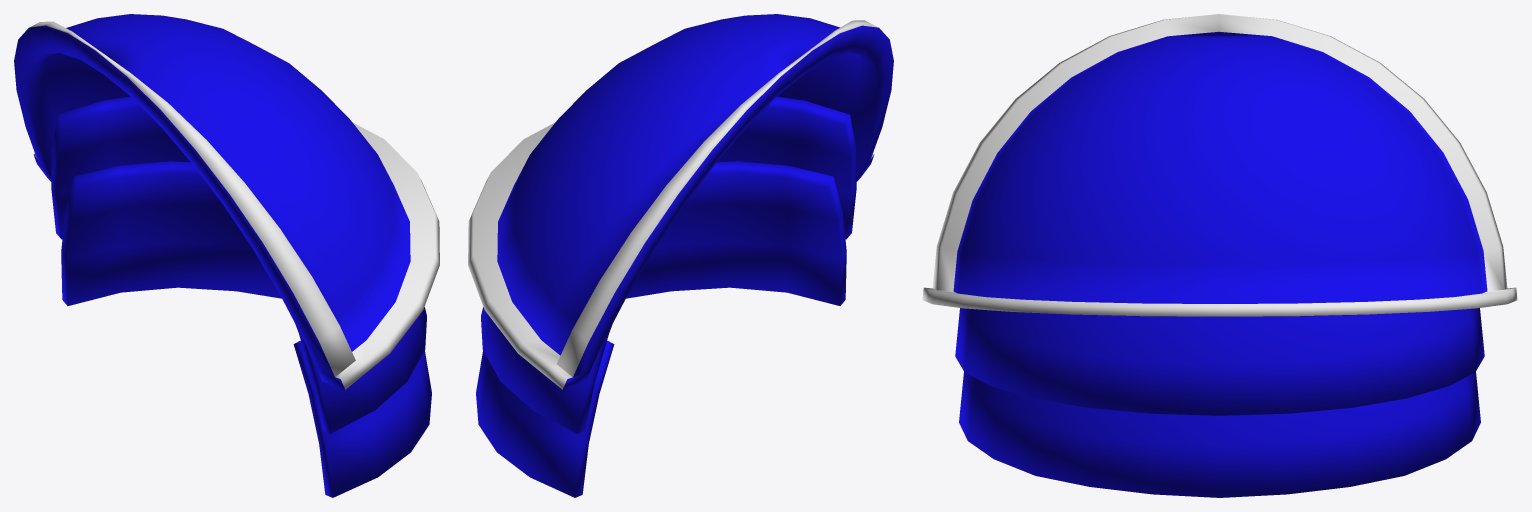
File: hombrera.fbx
3 renders of one model, left to right at view 1: azimuth 30°, elevation 25°; view 2: azimuth 150°, elevation 25°; view 3: azimuth 270°, elevation 25°, orthographic. The views are drawn at different scales.
Visible parts, largest first — view 1: Sphere, Sphere.002, Sphere.001; view 2: Sphere, Sphere.002, Sphere.001; view 3: Sphere, Sphere.001, Sphere.002.
Boxes of the visible parts, bbox=[...] form: Sphere: bbox=[14, 14, 439, 389]; Sphere.002: bbox=[61, 161, 431, 497]; Sphere.001: bbox=[51, 96, 426, 433]; Sphere: bbox=[468, 14, 893, 389]; Sphere.002: bbox=[476, 161, 846, 497]; Sphere.001: bbox=[481, 96, 856, 433]; Sphere: bbox=[922, 14, 1517, 317]; Sphere.001: bbox=[955, 308, 1484, 415]; Sphere.002: bbox=[959, 372, 1480, 497].
Size of the model in its own units: 6.03 by 7.34 by 10.92.
